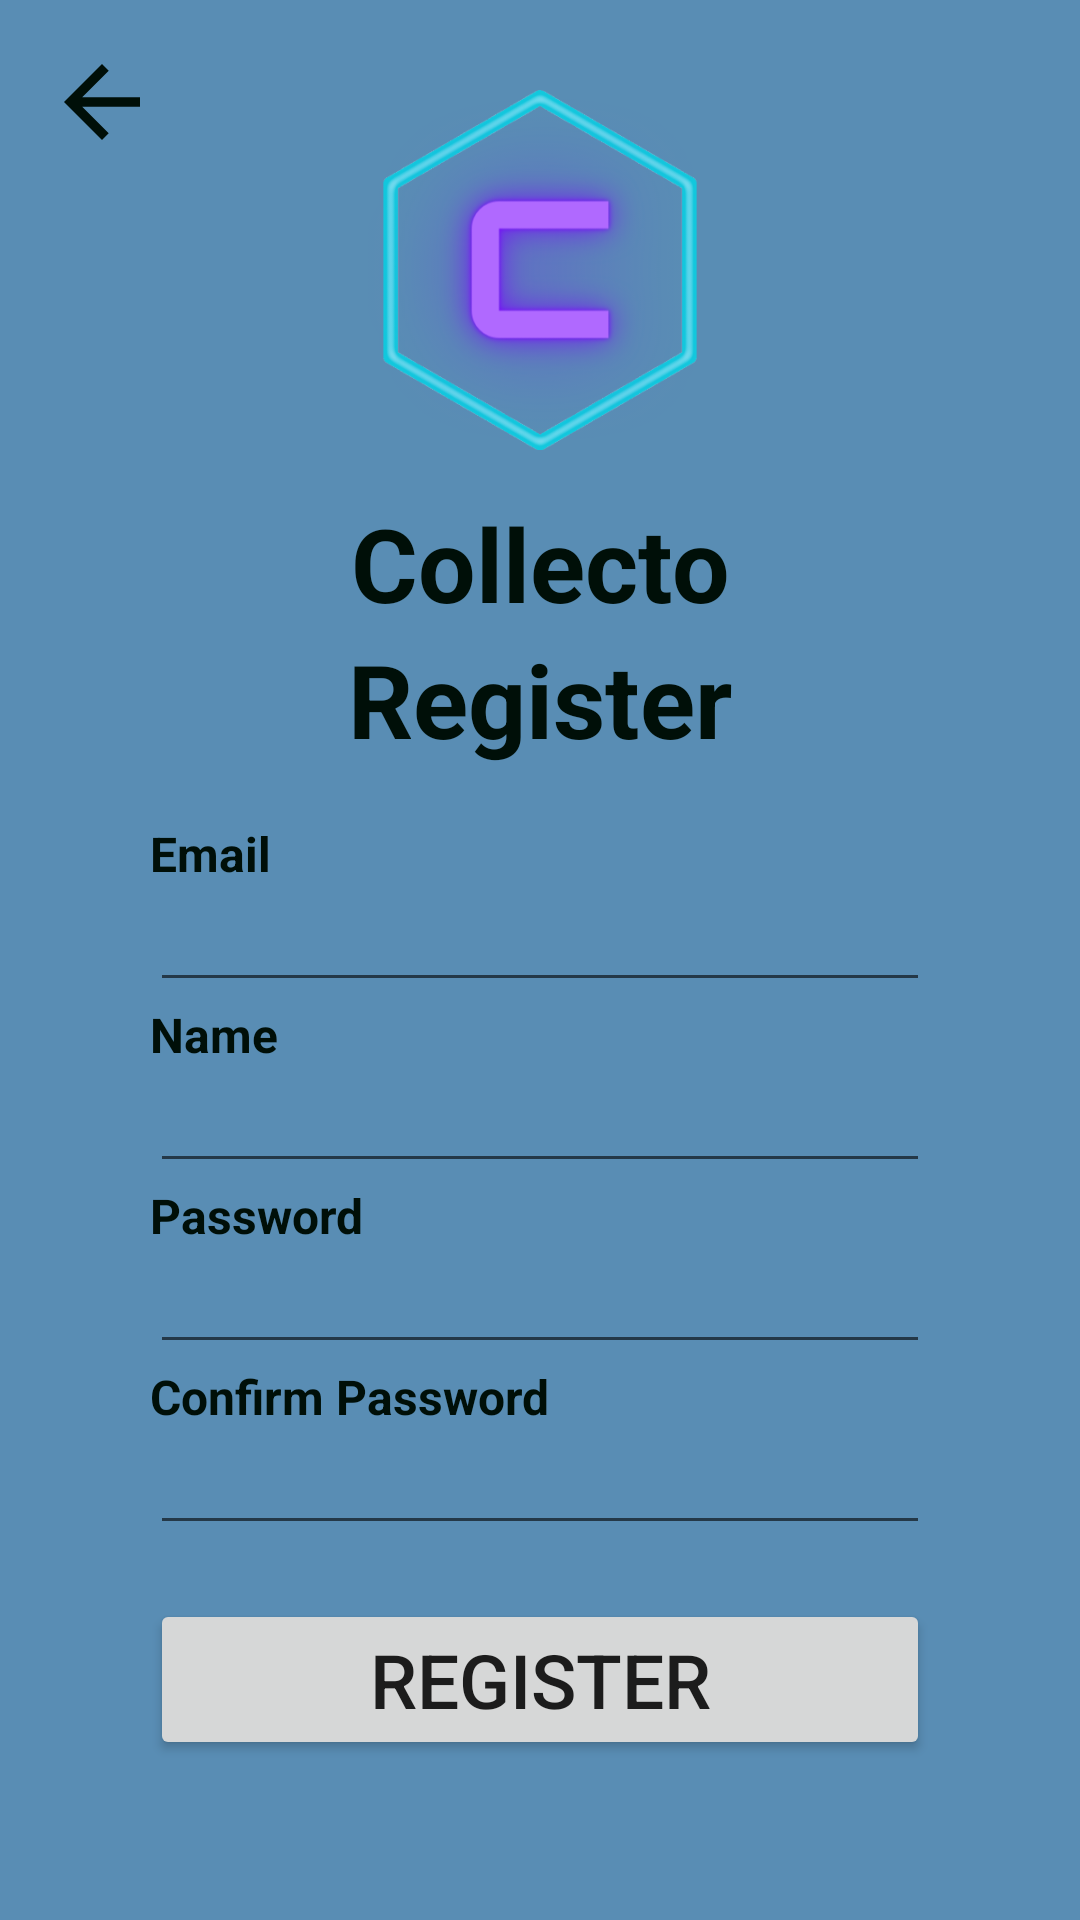

Named icons in this screenshot (1080 × 1920) and their bounding boxes, region(x1, y1, x2, y2):
arrow: region(64, 64, 140, 140)
